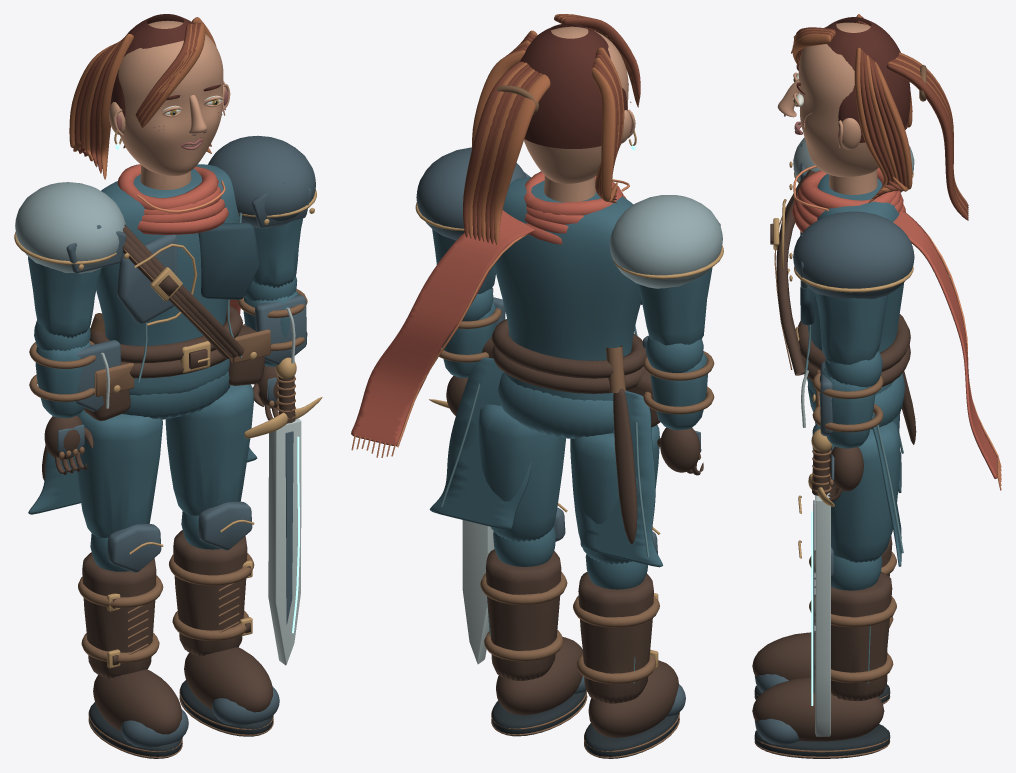
Rendered from kaida.glb.
3 views of the same model, side by side, from view 1: azimuth 30°, elevation 25°; view 2: azimuth 150°, elevation 25°; view 3: azimuth 270°, elevation 25° (orthographic).
Parts seen in each view (by area): view 1: body • storm-blue wool, head • sunset skin, rightKnee • Oiled brown leather, leftKnee • Oiled brown leather, rightArm • Oxidized gunmetal, leftLeg • storm-blue wool, rightLeg • storm-blue wool, body • Oiled brown leather, leftArm • Weathered titanium, leftArm • storm-blue wool, weapon • burnished edges, body • vermilion linen (+26 smaller); view 2: body • storm-blue wool, cloak • storm-blue wool, cloak • vermilion linen, leftKnee • Oiled brown leather, rightKnee • Oiled brown leather, body • Oiled brown leather, leftArm • Weathered titanium, rightLeg • storm-blue wool, head • auburn shadows, head • copper strands, leftArm • storm-blue wool, head • burnished auburn (+18 smaller); view 3: rightKnee • Oiled brown leather, rightArm • Oxidized gunmetal, head • sunset skin, rightArm • storm-blue wool, rightLeg • storm-blue wool, head • burnished auburn, body • Oiled brown leather, head • copper strands, weapon • burnished edges, body • storm-blue wool, head • auburn shadows, cloak • vermilion linen (+18 smaller).
Boxes of the visible parts, x1,y1,x2,y2 form: body • storm-blue wool: [96, 164, 239, 419]; head • sunset skin: [109, 20, 230, 189]; rightKnee • Oiled brown leather: [173, 530, 272, 712]; leftKnee • Oiled brown leather: [82, 552, 181, 734]; rightArm • Oxidized gunmetal: [208, 135, 315, 402]; leftLeg • storm-blue wool: [75, 409, 162, 537]; rightLeg • storm-blue wool: [165, 384, 253, 515]; body • Oiled brown leather: [42, 225, 265, 480]; leftArm • Weathered titanium: [15, 182, 125, 273]; leftArm • storm-blue wool: [28, 256, 101, 418]; weapon • burnished edges: [268, 418, 301, 665]; body • vermilion linen: [117, 164, 228, 234]; body • storm-blue wool: [494, 177, 641, 438]; cloak • storm-blue wool: [429, 357, 662, 567]; cloak • vermilion linen: [351, 210, 534, 445]; leftKnee • Oiled brown leather: [578, 572, 678, 737]; rightKnee • Oiled brown leather: [485, 549, 582, 715]; body • Oiled brown leather: [482, 319, 660, 544]; leftArm • Weathered titanium: [609, 195, 722, 288]; rightLeg • storm-blue wool: [478, 404, 565, 541]; head • auburn shadows: [520, 23, 627, 148]; head • copper strands: [468, 14, 639, 244]; leftArm • storm-blue wool: [638, 267, 712, 430]; head • burnished auburn: [463, 14, 640, 243]; rightKnee • Oiled brown leather: [752, 571, 892, 741]; rightArm • Oxidized gunmetal: [793, 211, 914, 479]; head • sunset skin: [777, 22, 878, 194]; rightArm • storm-blue wool: [814, 292, 887, 448]; rightLeg • storm-blue wool: [812, 421, 900, 562]; head • burnished auburn: [795, 16, 968, 220]; body • Oiled brown leather: [770, 170, 916, 444]; head • copper strands: [791, 14, 968, 218]; weapon • burnished edges: [815, 493, 830, 736]; body • storm-blue wool: [807, 174, 904, 429]; head • auburn shadows: [796, 17, 910, 142]; cloak • vermilion linen: [893, 211, 997, 478].
Size of the model in its own units: 0.8303 by 1.9 by 0.6118.
